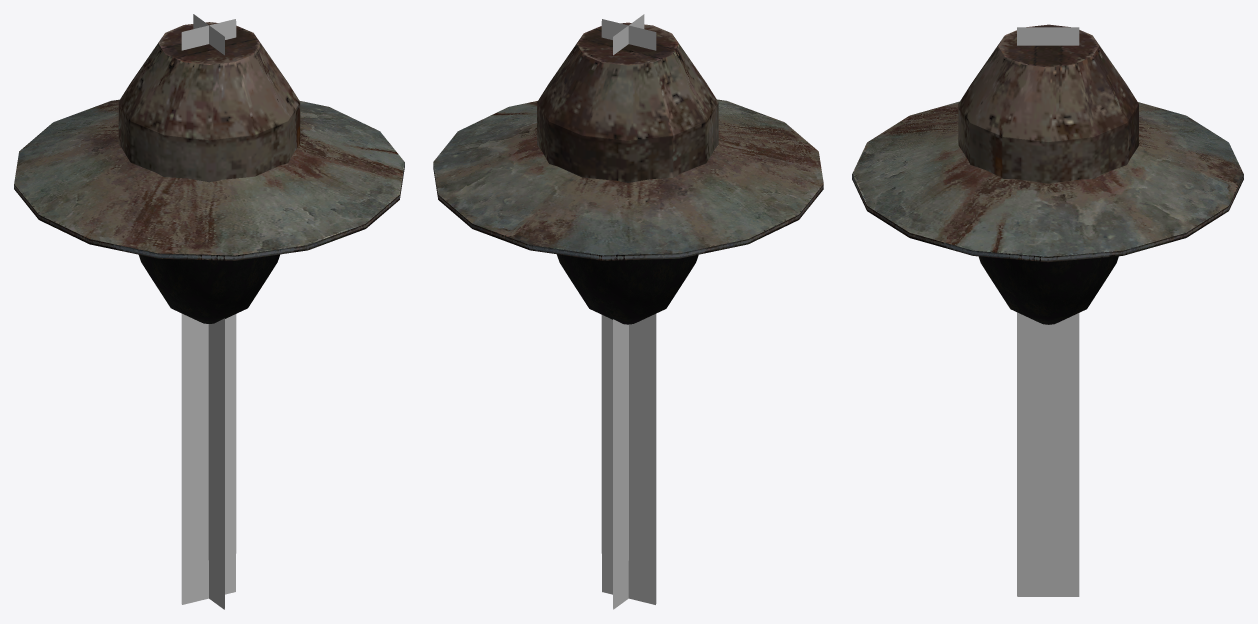
The model's file is cellar_gaslamp01_long.DAE.
The picture shows the model from 3 angles, left to right: view 1: azimuth 30°, elevation 25°; view 2: azimuth 150°, elevation 25°; view 3: azimuth 270°, elevation 25°; orthographic projection.
Parts seen in each view (by area): view 1: Box010, Box012, Box015, Cylinder003, Box014; view 2: Box010, Box015, Cylinder003, Box012; view 3: Box010, Box012, Cylinder003.
Boxes of the visible parts, x1=… form: Box010: x1=14, y1=22, x2=404, y2=260; Box012: x1=182, y1=14, x2=236, y2=609; Box015: x1=181, y1=19, x2=235, y2=604; Cylinder003: x1=139, y1=254, x2=280, y2=323; Box014: x1=182, y1=21, x2=236, y2=50; Box010: x1=433, y1=22, x2=823, y2=260; Box015: x1=602, y1=19, x2=656, y2=604; Cylinder003: x1=557, y1=254, x2=698, y2=324; Box012: x1=601, y1=14, x2=644, y2=609; Box010: x1=852, y1=24, x2=1243, y2=262; Box012: x1=1017, y1=27, x2=1079, y2=596; Cylinder003: x1=978, y1=256, x2=1118, y2=324.
Bounding box in the file's own units: 0.6813 × 0.6813 × 1.09.
